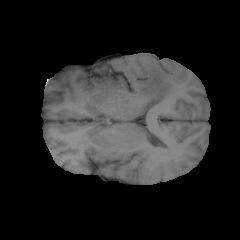glioma: (136, 61, 176, 105)
